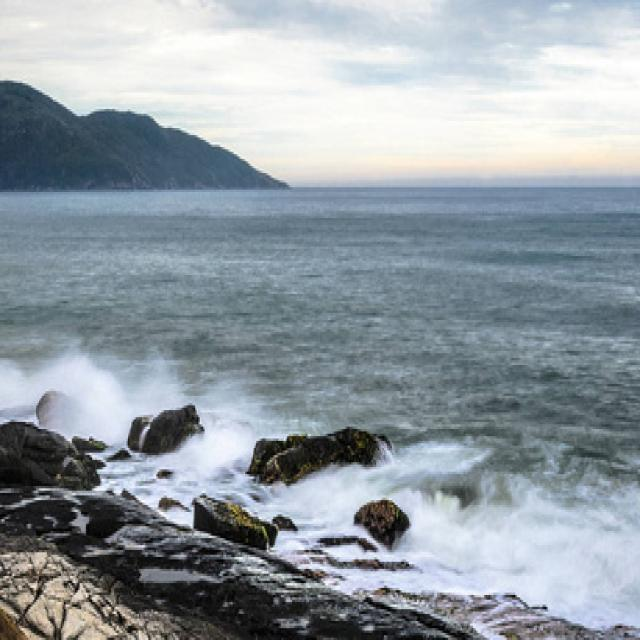island: (0, 45, 294, 196)
